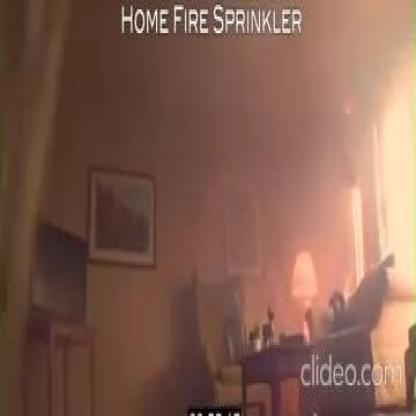fire: (303, 319, 311, 343)
